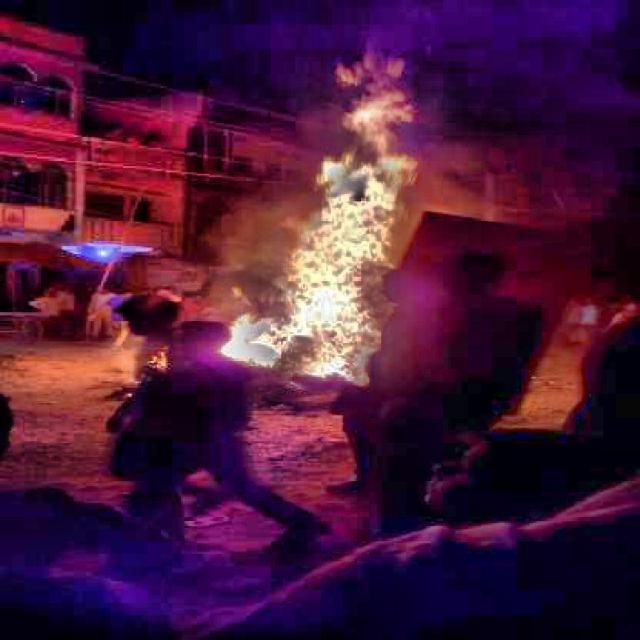Fire: (262, 47, 414, 393)
